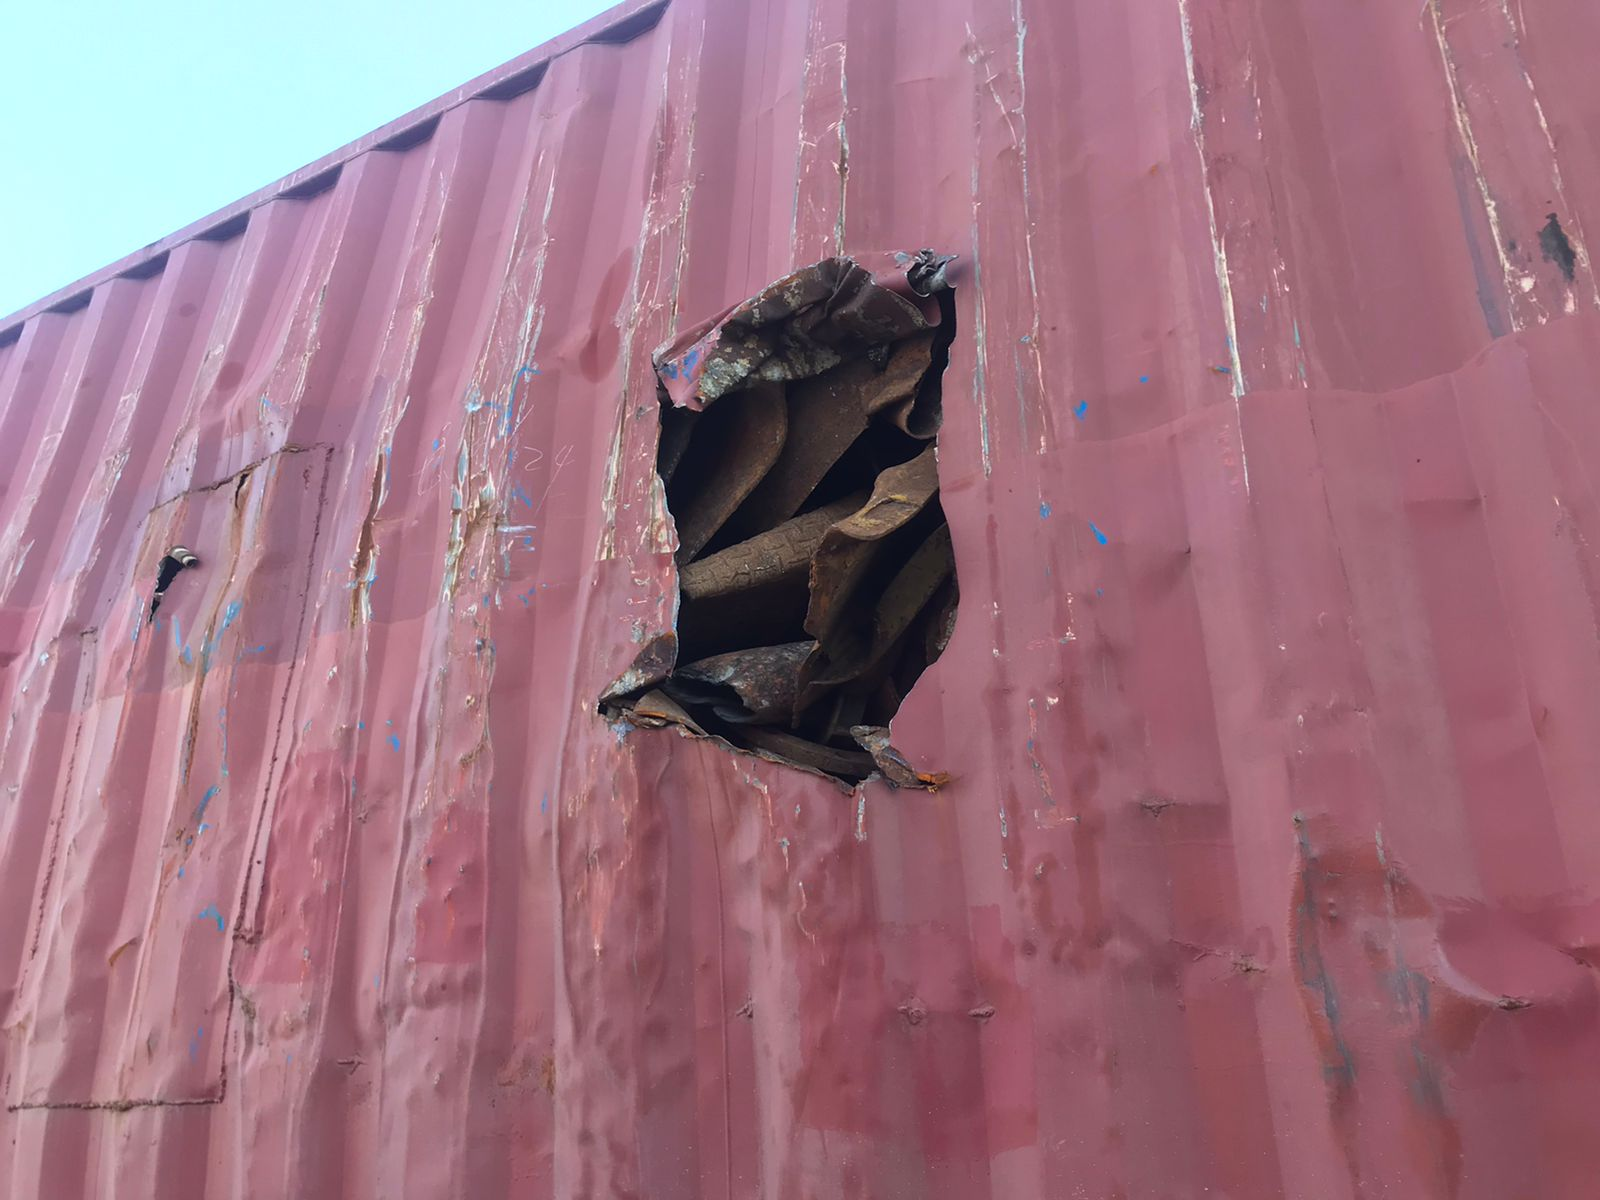cut: (580, 246, 1029, 823), (139, 471, 249, 620)
dented: (139, 739, 1070, 1061), (1272, 818, 1558, 1071)
